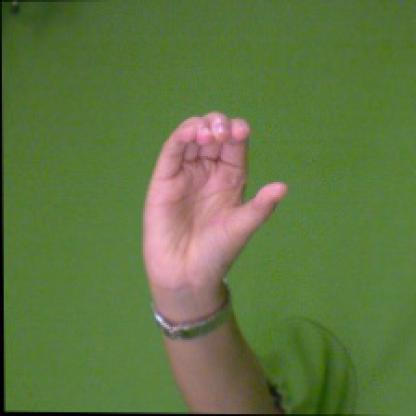Hand: (142, 111, 287, 294)
